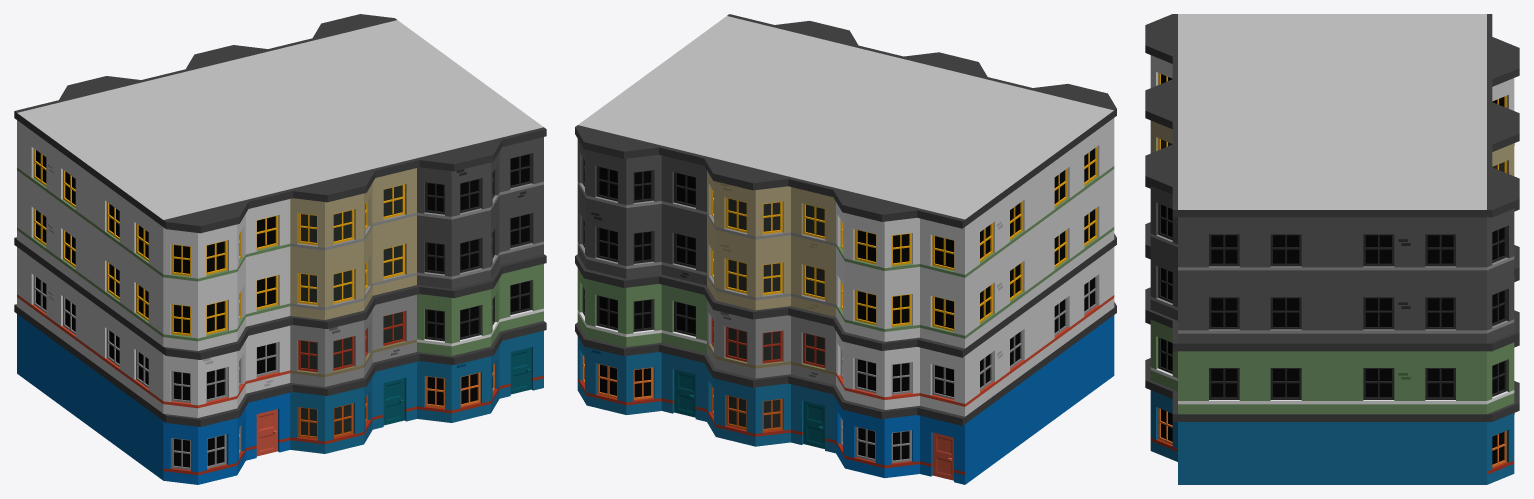
The picture shows the model from 3 angles, left to right: view 1: azimuth 30°, elevation 25°; view 2: azimuth 150°, elevation 25°; view 3: azimuth 270°, elevation 25°; orthographic projection. The views are drawn at different scales.
Parts seen in each view (by area): view 1: Building; view 2: Building; view 3: Building.
Boxes of the visible parts, x1=… form: Building: x1=14, y1=14, x2=546, y2=484; Building: x1=575, y1=14, x2=1116, y2=484; Building: x1=1145, y1=14, x2=1519, y2=484.
Size of what is drawn, in the model's own units: 19.46 by 12.73 by 15.7.
